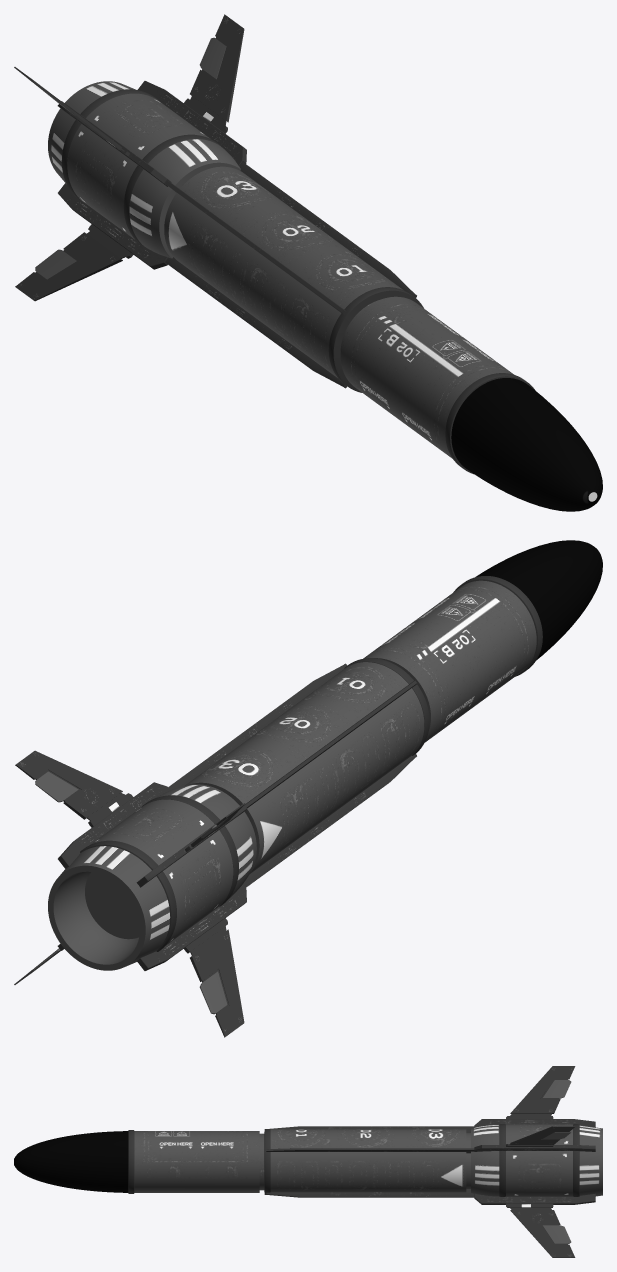
Rendered from BigRocket.fbx.
3 views of the same model, one above another, from view 1: azimuth 30°, elevation 25°; view 2: azimuth 150°, elevation 25°; view 3: azimuth 270°, elevation 25° (orthographic). The views are drawn at different scales.
Parts seen in each view (by area): view 1: RocketBig; view 2: RocketBig; view 3: RocketBig.
Part boxes in pixels (bbox=[...]): RocketBig: bbox=[14, 14, 602, 511]; RocketBig: bbox=[14, 540, 602, 1037]; RocketBig: bbox=[14, 1066, 602, 1257].
Bounding box in the file's own units: 47.58 × 47.58 × 193.
1 material, 1 textured.
